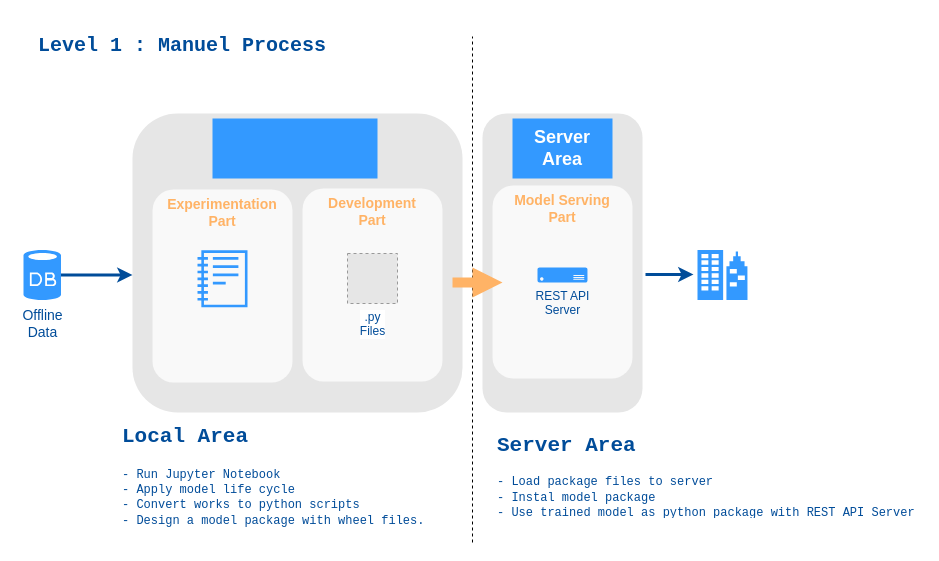
Some shapes in this 939 by 561 pixel diagram are drawn without their labels. Grey dashed boxes stand in for pictures. The shapes that lost their labels are listed below. From the top down, each one's centre as x and y in pixels, then its label:
At pixel 294 148: "Local Area".
At pixel 222 278: "Jupyter Notebook".
At pixel 722 275: "Production Service".
